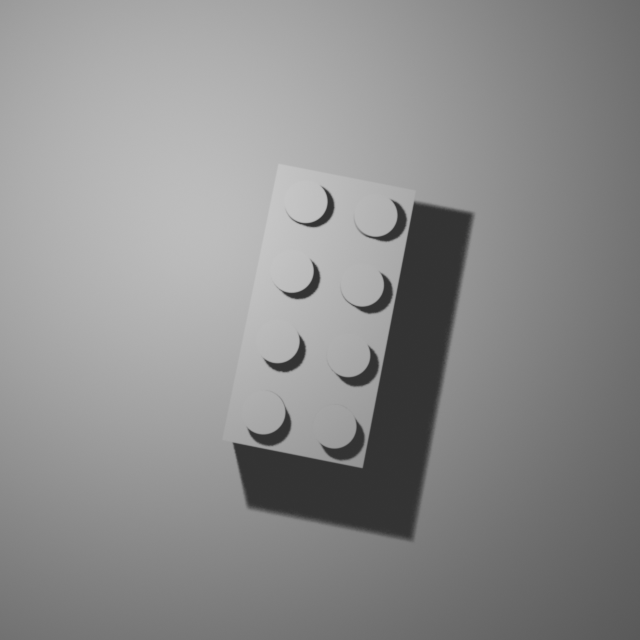lego_2x4: (221, 160, 417, 469)
